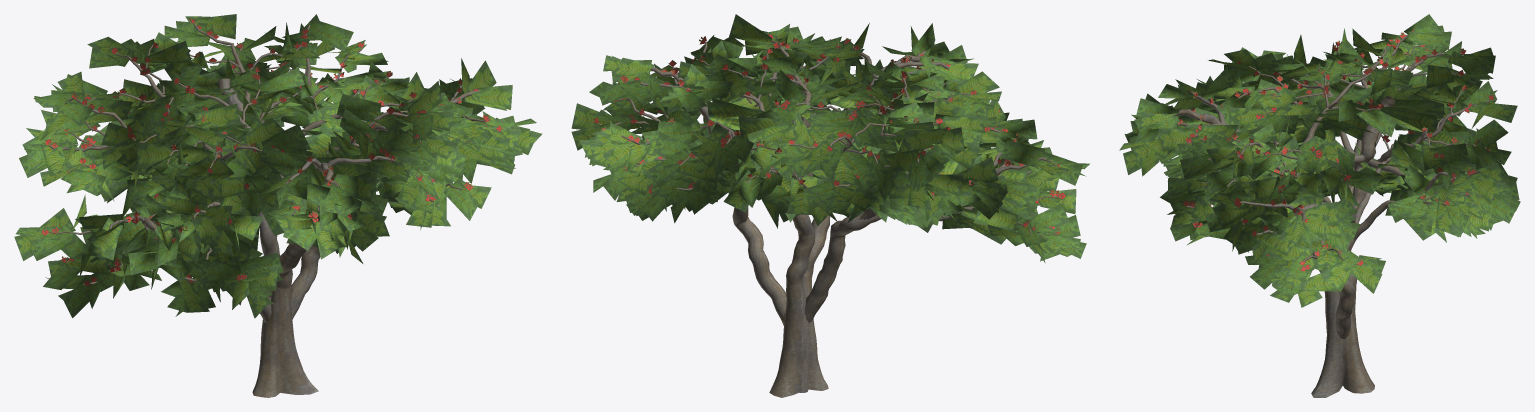
File: SM_tree_delonix_03.fbx
The picture shows the model from 3 angles, left to right: view 1: azimuth 30°, elevation 25°; view 2: azimuth 150°, elevation 25°; view 3: azimuth 270°, elevation 25°; orthographic projection. The views are drawn at different scales.
Parts seen in each view (by area): view 1: SM_tree_delonix_03_LOD0; view 2: SM_tree_delonix_03_LOD0; view 3: SM_tree_delonix_03_LOD0.
Boxes of the visible parts, x1,y1,x2,y2 form: SM_tree_delonix_03_LOD0: [14, 14, 542, 397]; SM_tree_delonix_03_LOD0: [571, 14, 1089, 397]; SM_tree_delonix_03_LOD0: [1119, 14, 1520, 397].
Bounding box in the file's own units: 1140 × 864 × 714.
Materials: 2 (2 with a texture image).
